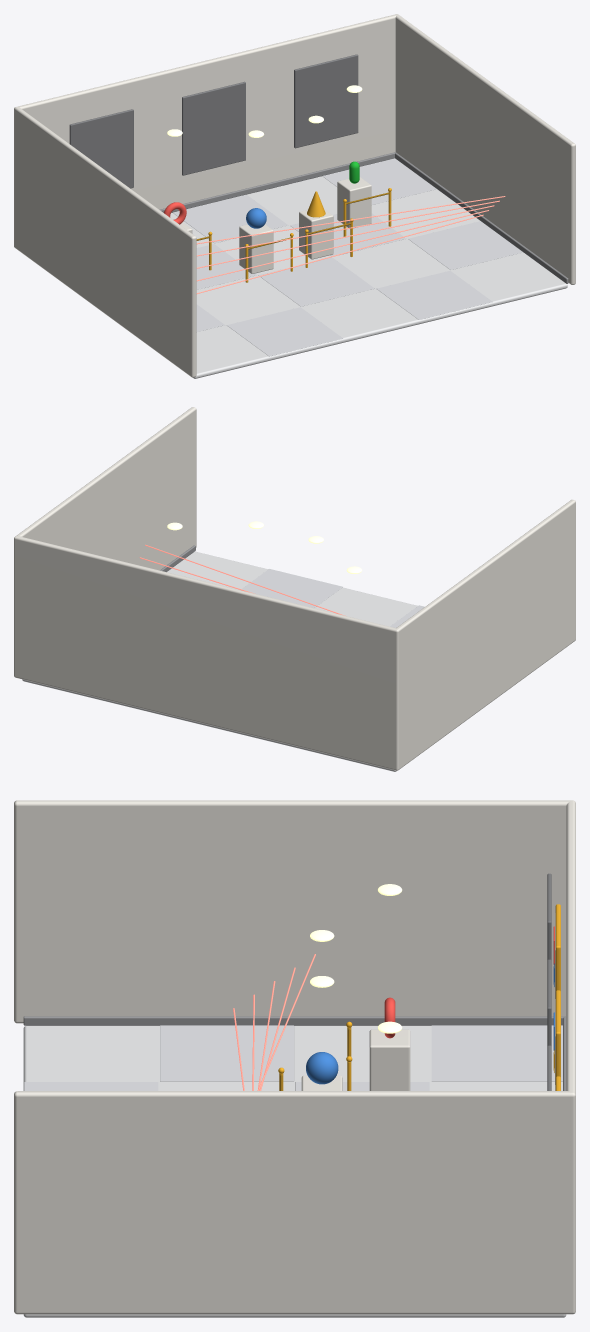
The model's file is art_gallery_heist.glb.
3 renders of one model, top to bottom at view 1: azimuth 30°, elevation 25°; view 2: azimuth 150°, elevation 25°; view 3: azimuth 270°, elevation 25°, orthographic. The views are drawn at different scales.
Parts seen in each view (by area): view 1: Set, Flat_001, Part_083, Part_085, Part_081, Flat_009, Flat_005, Flat_007, Flat_011, Flat_006, Flat_010, Flat_008 (+9 smaller); view 2: Set, Flat_001, Flat_009; view 3: Set, Flat_001, Flat_003, Flat_002, Part_031, Flat_005, Glow, Part_043.
Boxes of the visible parts, bbox=[...] form: Set: bbox=[14, 14, 575, 377]; Flat_001: bbox=[170, 176, 567, 378]; Part_083: bbox=[182, 81, 245, 175]; Part_085: bbox=[294, 54, 358, 148]; Part_081: bbox=[69, 109, 133, 188]; Flat_009: bbox=[376, 271, 492, 319]; Flat_005: bbox=[227, 307, 342, 356]; Flat_007: bbox=[258, 257, 374, 306]; Flat_011: bbox=[408, 221, 523, 269]; Flat_006: bbox=[173, 194, 288, 243]; Flat_010: bbox=[322, 158, 436, 204]; Flat_008: bbox=[290, 213, 406, 255]; Set: bbox=[14, 407, 575, 770]; Flat_001: bbox=[22, 551, 417, 771]; Flat_009: bbox=[242, 569, 342, 607]; Set: bbox=[14, 800, 575, 1314]; Flat_001: bbox=[23, 1025, 566, 1317]; Flat_003: bbox=[160, 1025, 294, 1081]; Flat_002: bbox=[431, 1025, 562, 1081]; Part_031: bbox=[369, 1029, 410, 1090]; Flat_005: bbox=[24, 1082, 158, 1090]; Glow: bbox=[310, 884, 402, 1033]; Part_043: bbox=[306, 1052, 338, 1084].
Size of the model in its own units: 10.28 by 3.72 by 8.28.
